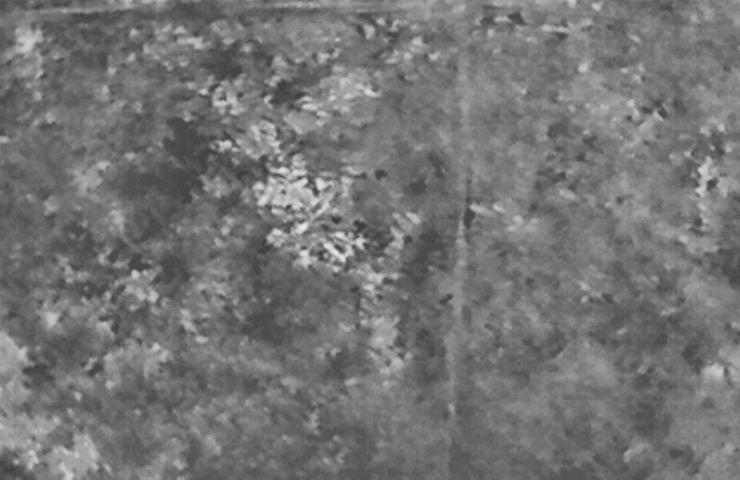landmines: (255, 163, 336, 231)
